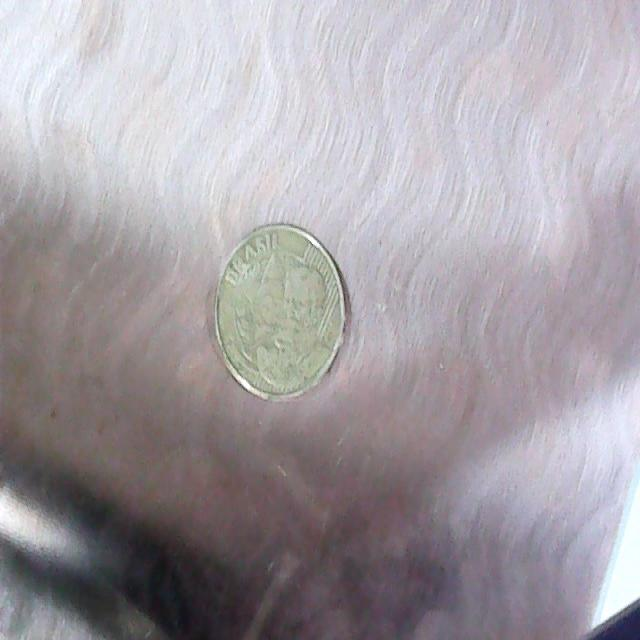25 cents: (208, 216, 352, 406)
